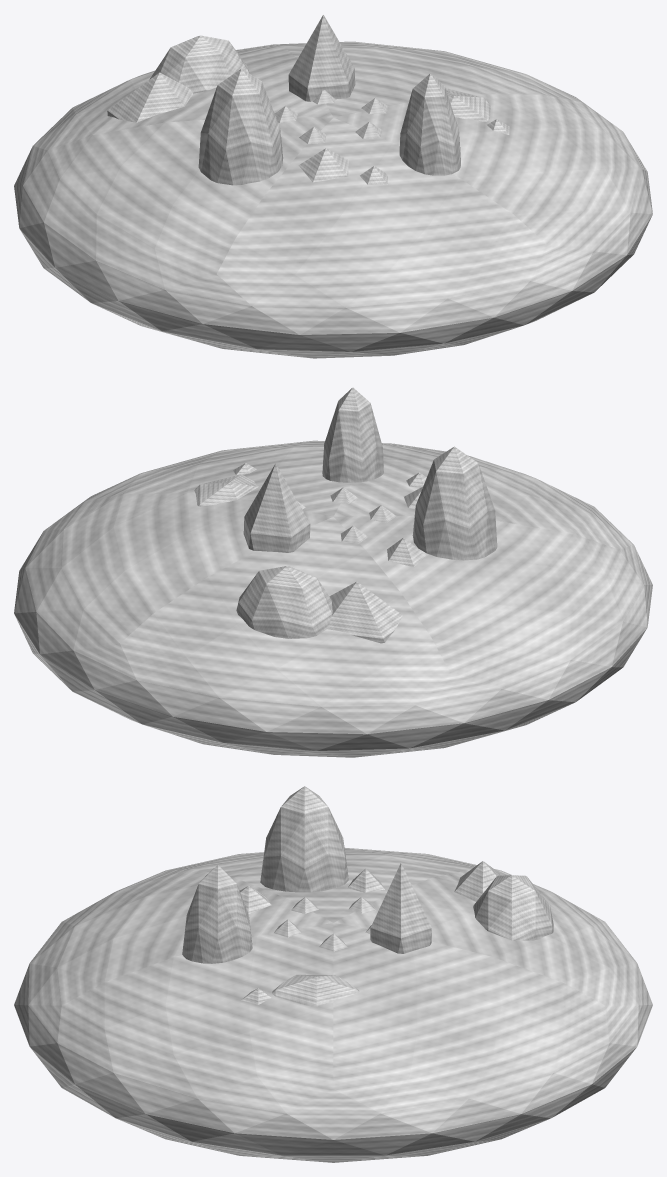
The model's file is raw_quartz_node_variant_b.glb.
3 views of the same model, one above another, from view 1: azimuth 30°, elevation 25°; view 2: azimuth 150°, elevation 25°; view 3: azimuth 270°, elevation 25° (orthographic).
Visible parts, largest first — view 1: Resource node bedrock.001, Exposed ore formation.016, Exposed ore formation.019, Exposed ore formation.012, Exposed ore formation.013, Exposed ore formation.014, Exposed ore formation.017, Exposed ore formation.010; view 2: Resource node bedrock.001, Exposed ore formation.016, Exposed ore formation.013, Exposed ore formation.019, Exposed ore formation.012, Exposed ore formation.014, Exposed ore formation.010, Exposed ore formation.015; view 3: Resource node bedrock.001, Exposed ore formation.016, Exposed ore formation.019, Exposed ore formation.013, Exposed ore formation.012, Exposed ore formation.010, Exposed ore formation.014.
Boxes of the visible parts, x1=… form: Resource node bedrock.001: x1=14, y1=41, x2=652, y2=358; Exposed ore formation.016: x1=198, y1=68, x2=283, y2=185; Exposed ore formation.019: x1=399, y1=73, x2=460, y2=175; Exposed ore formation.012: x1=288, y1=15, x2=355, y2=101; Exposed ore formation.013: x1=149, y1=35, x2=249, y2=93; Exposed ore formation.014: x1=107, y1=72, x2=193, y2=122; Exposed ore formation.017: x1=298, y1=148, x2=348, y2=182; Exposed ore formation.010: x1=445, y1=88, x2=491, y2=121; Resource node bedrock.001: x1=14, y1=440, x2=652, y2=757; Exposed ore formation.016: x1=412, y1=446, x2=497, y2=560; Exposed ore formation.013: x1=236, y1=566, x2=332, y2=638; Exposed ore formation.019: x1=322, y1=387, x2=383, y2=482; Exposed ore formation.012: x1=243, y1=463, x2=310, y2=552; Exposed ore formation.014: x1=327, y1=581, x2=402, y2=643; Exposed ore formation.010: x1=194, y1=474, x2=258, y2=506; Exposed ore formation.015: x1=387, y1=537, x2=425, y2=566; Resource node bedrock.001: x1=14, y1=848, x2=652, y2=1162; Exposed ore formation.016: x1=260, y1=786, x2=348, y2=892; Exposed ore formation.019: x1=182, y1=865, x2=252, y2=963; Exposed ore formation.013: x1=473, y1=875, x2=553, y2=940; Exposed ore formation.012: x1=370, y1=863, x2=431, y2=953; Exposed ore formation.010: x1=272, y1=974, x2=359, y2=1006; Exposed ore formation.014: x1=454, y1=861, x2=502, y2=901.
Size of what is drawn, in the model's own units: 6 by 2.58 by 6.
Materials: 2 (2 with a texture image).
